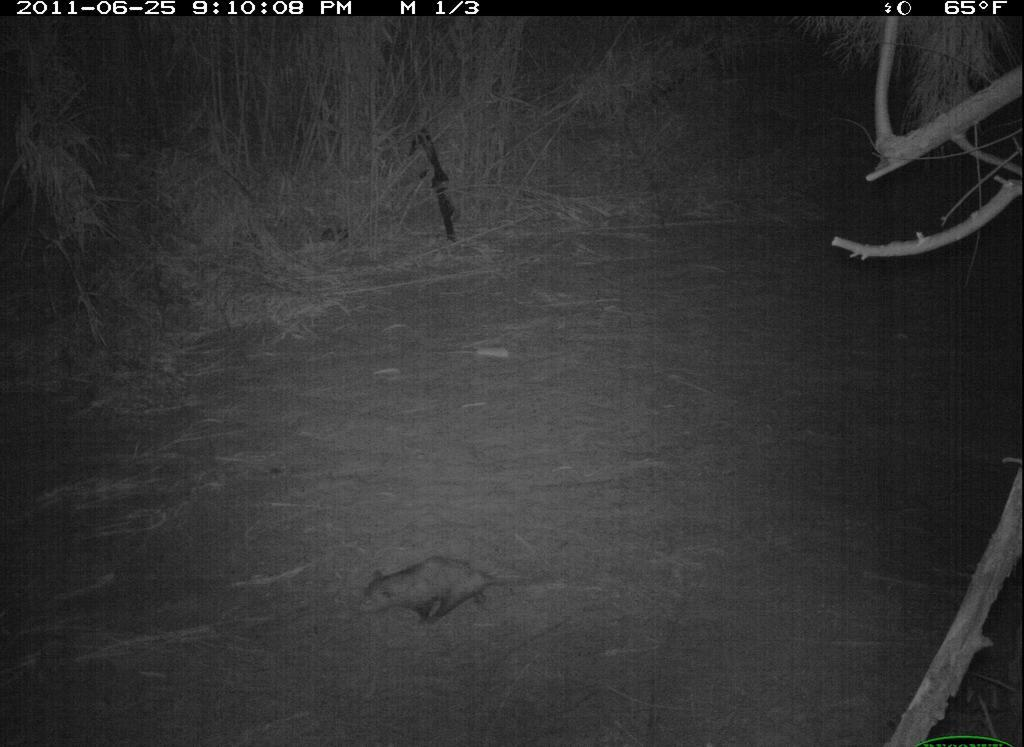opossum: (360, 555, 539, 629)
